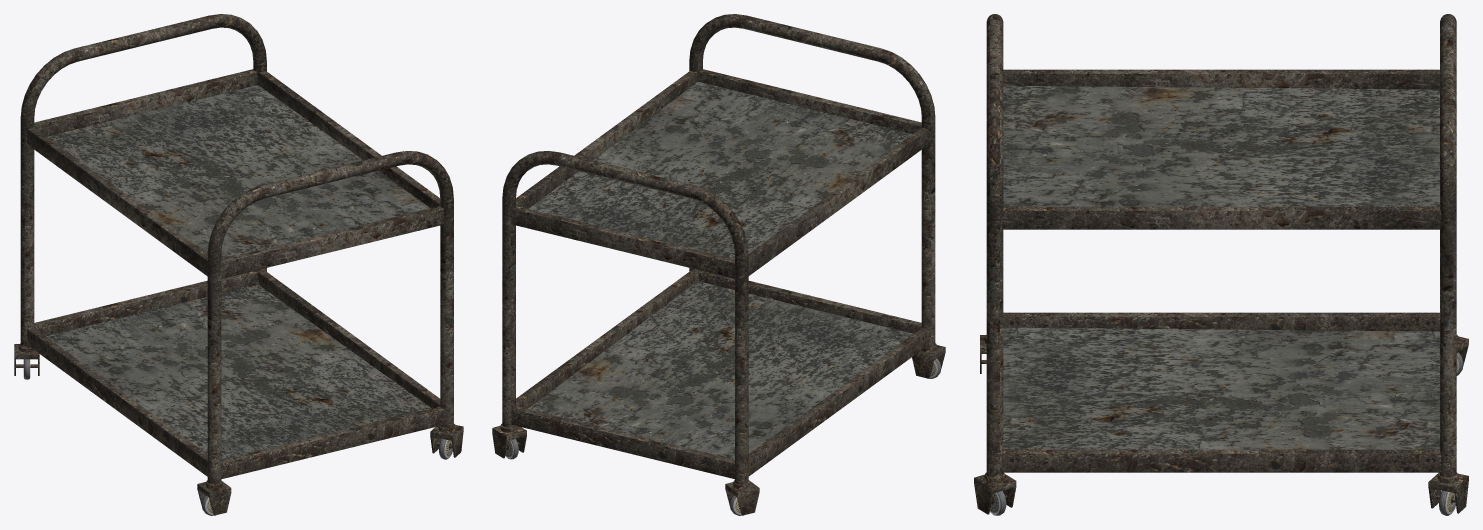
File: WheelShelf.FBX
The picture shows the model from 3 angles, left to right: view 1: azimuth 30°, elevation 25°; view 2: azimuth 150°, elevation 25°; view 3: azimuth 270°, elevation 25°; orthographic projection. The views are drawn at different scales.
Parts seen in each view (by area): view 1: WheelShelf; view 2: WheelShelf; view 3: WheelShelf.
Part boxes in pixels (x1,y1,x2,y2): WheelShelf: [14, 14, 463, 515]; WheelShelf: [492, 14, 945, 515]; WheelShelf: [974, 14, 1468, 515].
Bounding box in the file's own units: 87.13 × 101 × 117.
